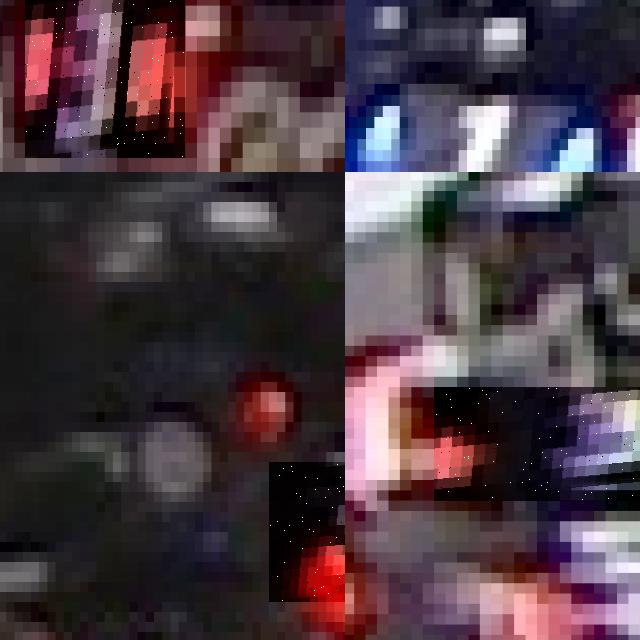B1: (349, 72, 593, 172)
R1: (268, 462, 345, 602)
R3: (25, 0, 185, 158), (434, 387, 640, 500), (491, 510, 640, 640)
